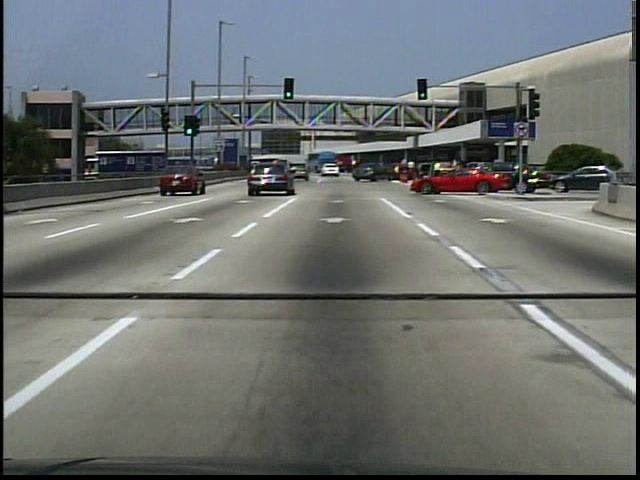person: (407, 160, 417, 183), (434, 162, 442, 179), (230, 115, 238, 130)
